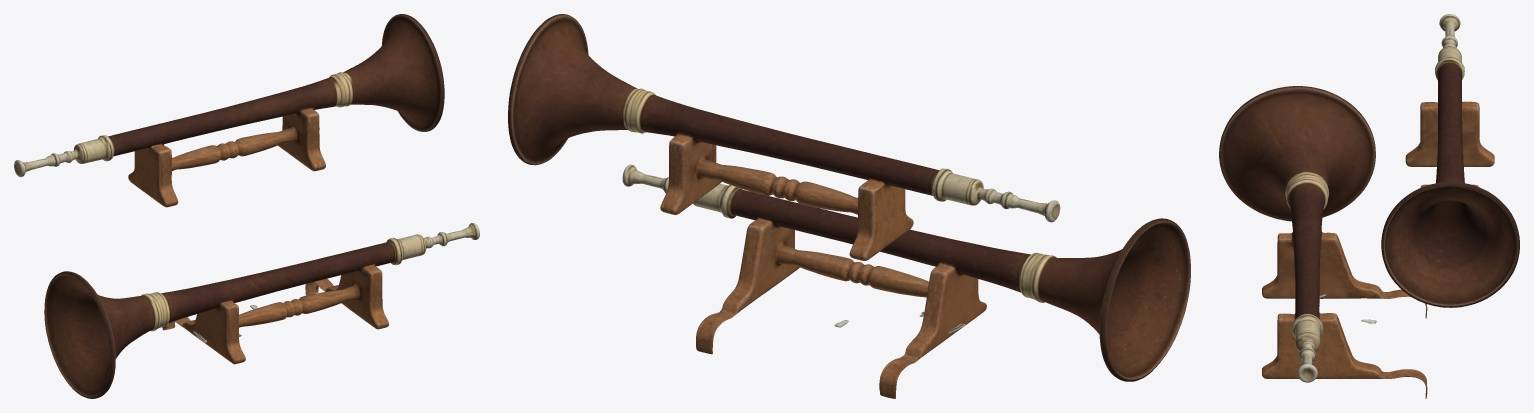
Rendered from tarompet.glb.
The picture shows the model from 3 angles, left to right: view 1: azimuth 30°, elevation 25°; view 2: azimuth 150°, elevation 25°; view 3: azimuth 270°, elevation 25°; orthographic projection. The views are drawn at different scales.
Visible parts, largest first — view 1: mesh_node; view 2: mesh_node; view 3: mesh_node.
Boxes of the visible parts, box(x1,y1,x2,y2) form: mesh_node: box(14, 14, 479, 398); mesh_node: box(508, 14, 1190, 398); mesh_node: box(1219, 14, 1519, 398).
Bounding box in the file's own units: 1.64 × 0.9325 × 0.9203.
Materials: 1 (1 with a texture image).
